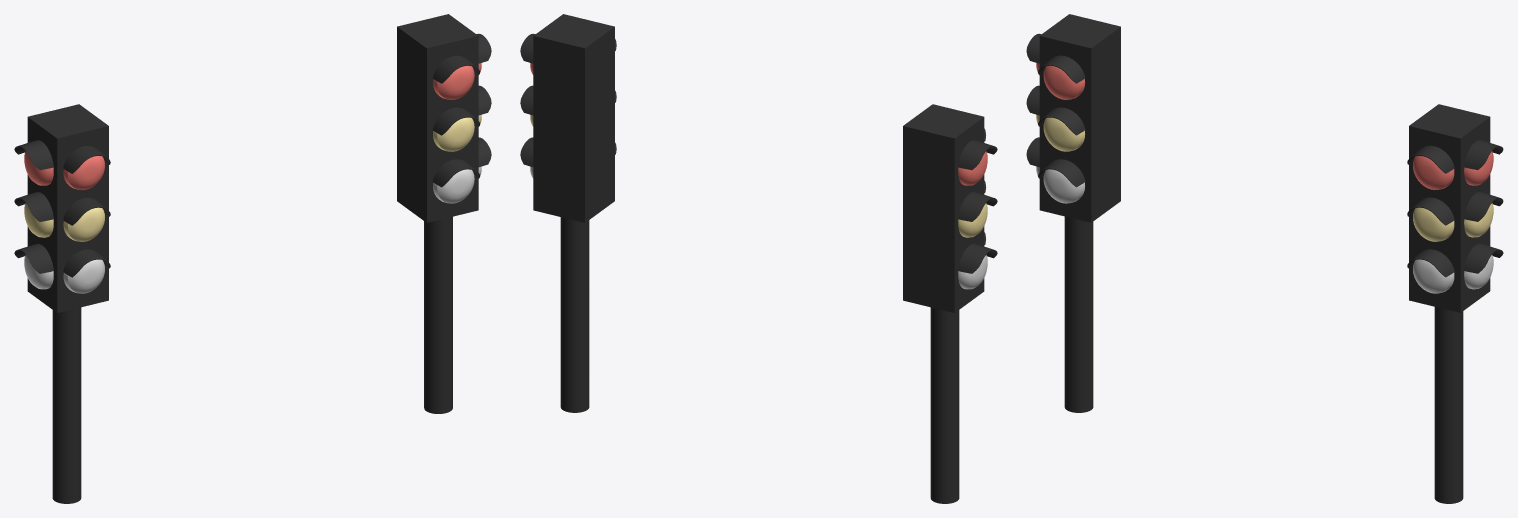
Rendered from GreenLight.fbx.
3 renders of one model, left to right at view 1: azimuth 30°, elevation 25°; view 2: azimuth 150°, elevation 25°; view 3: azimuth 330°, elevation 25°, orthographic.
Visible parts, largest first — view 1: Traffic light.005; view 2: Traffic light.005; view 3: Traffic light.005.
Boxes of the visible parts, left/top/right/bottom form: Traffic light.005: left=14, top=14, right=491, bottom=503; Traffic light.005: left=520, top=14, right=997, bottom=503; Traffic light.005: left=1026, top=14, right=1503, bottom=503.
Bounding box in the file's own units: 325 × 254 × 50.37.
